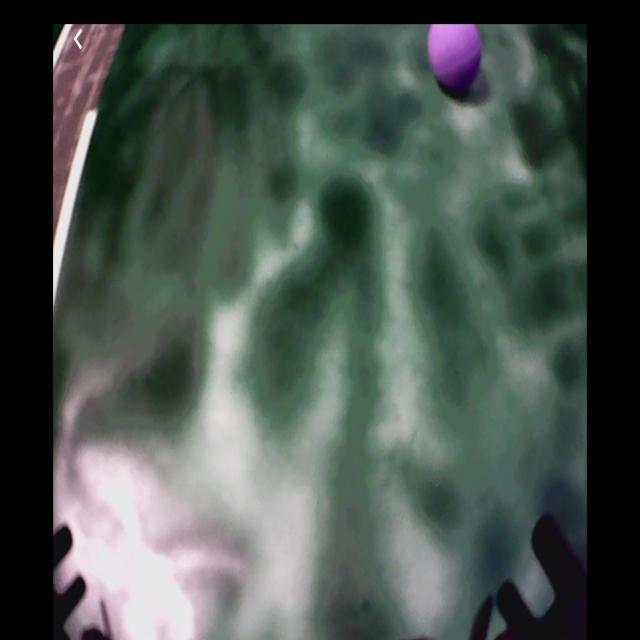ball: (428, 27, 483, 91)
